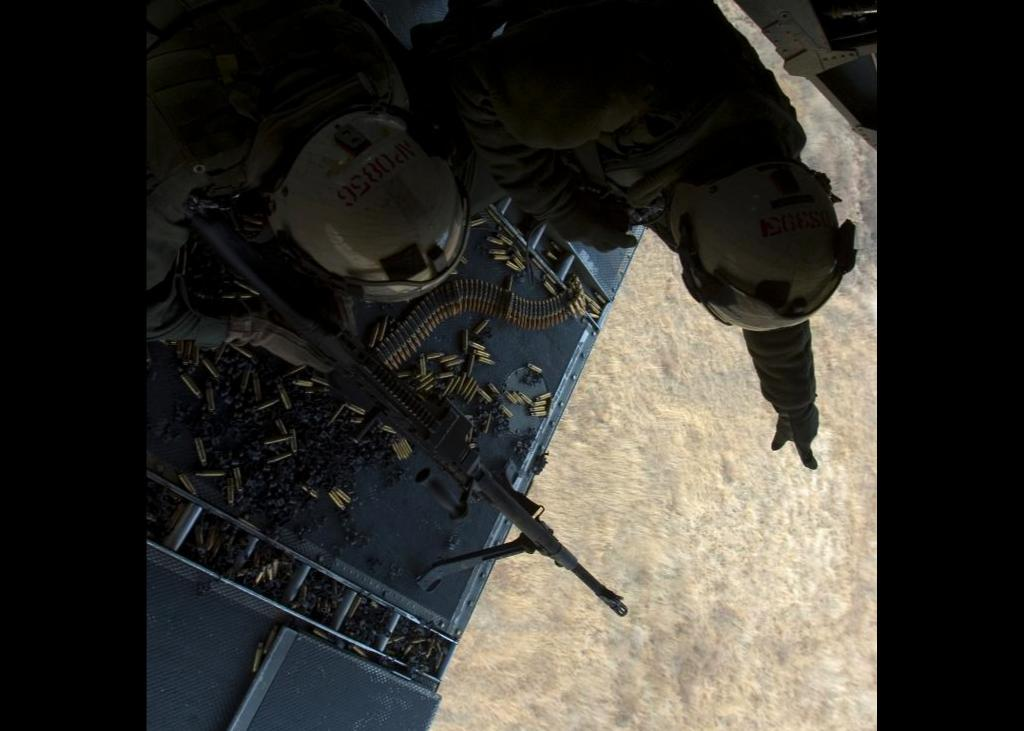gun: (193, 211, 625, 616)
